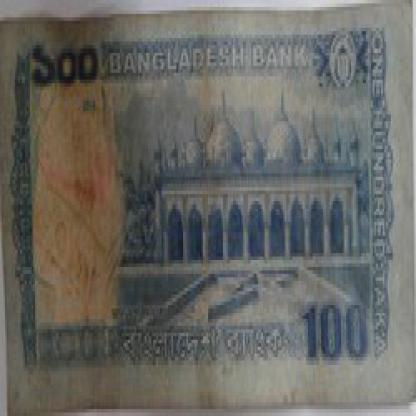one hundred taka: (300, 295, 374, 364), (28, 42, 103, 94)
